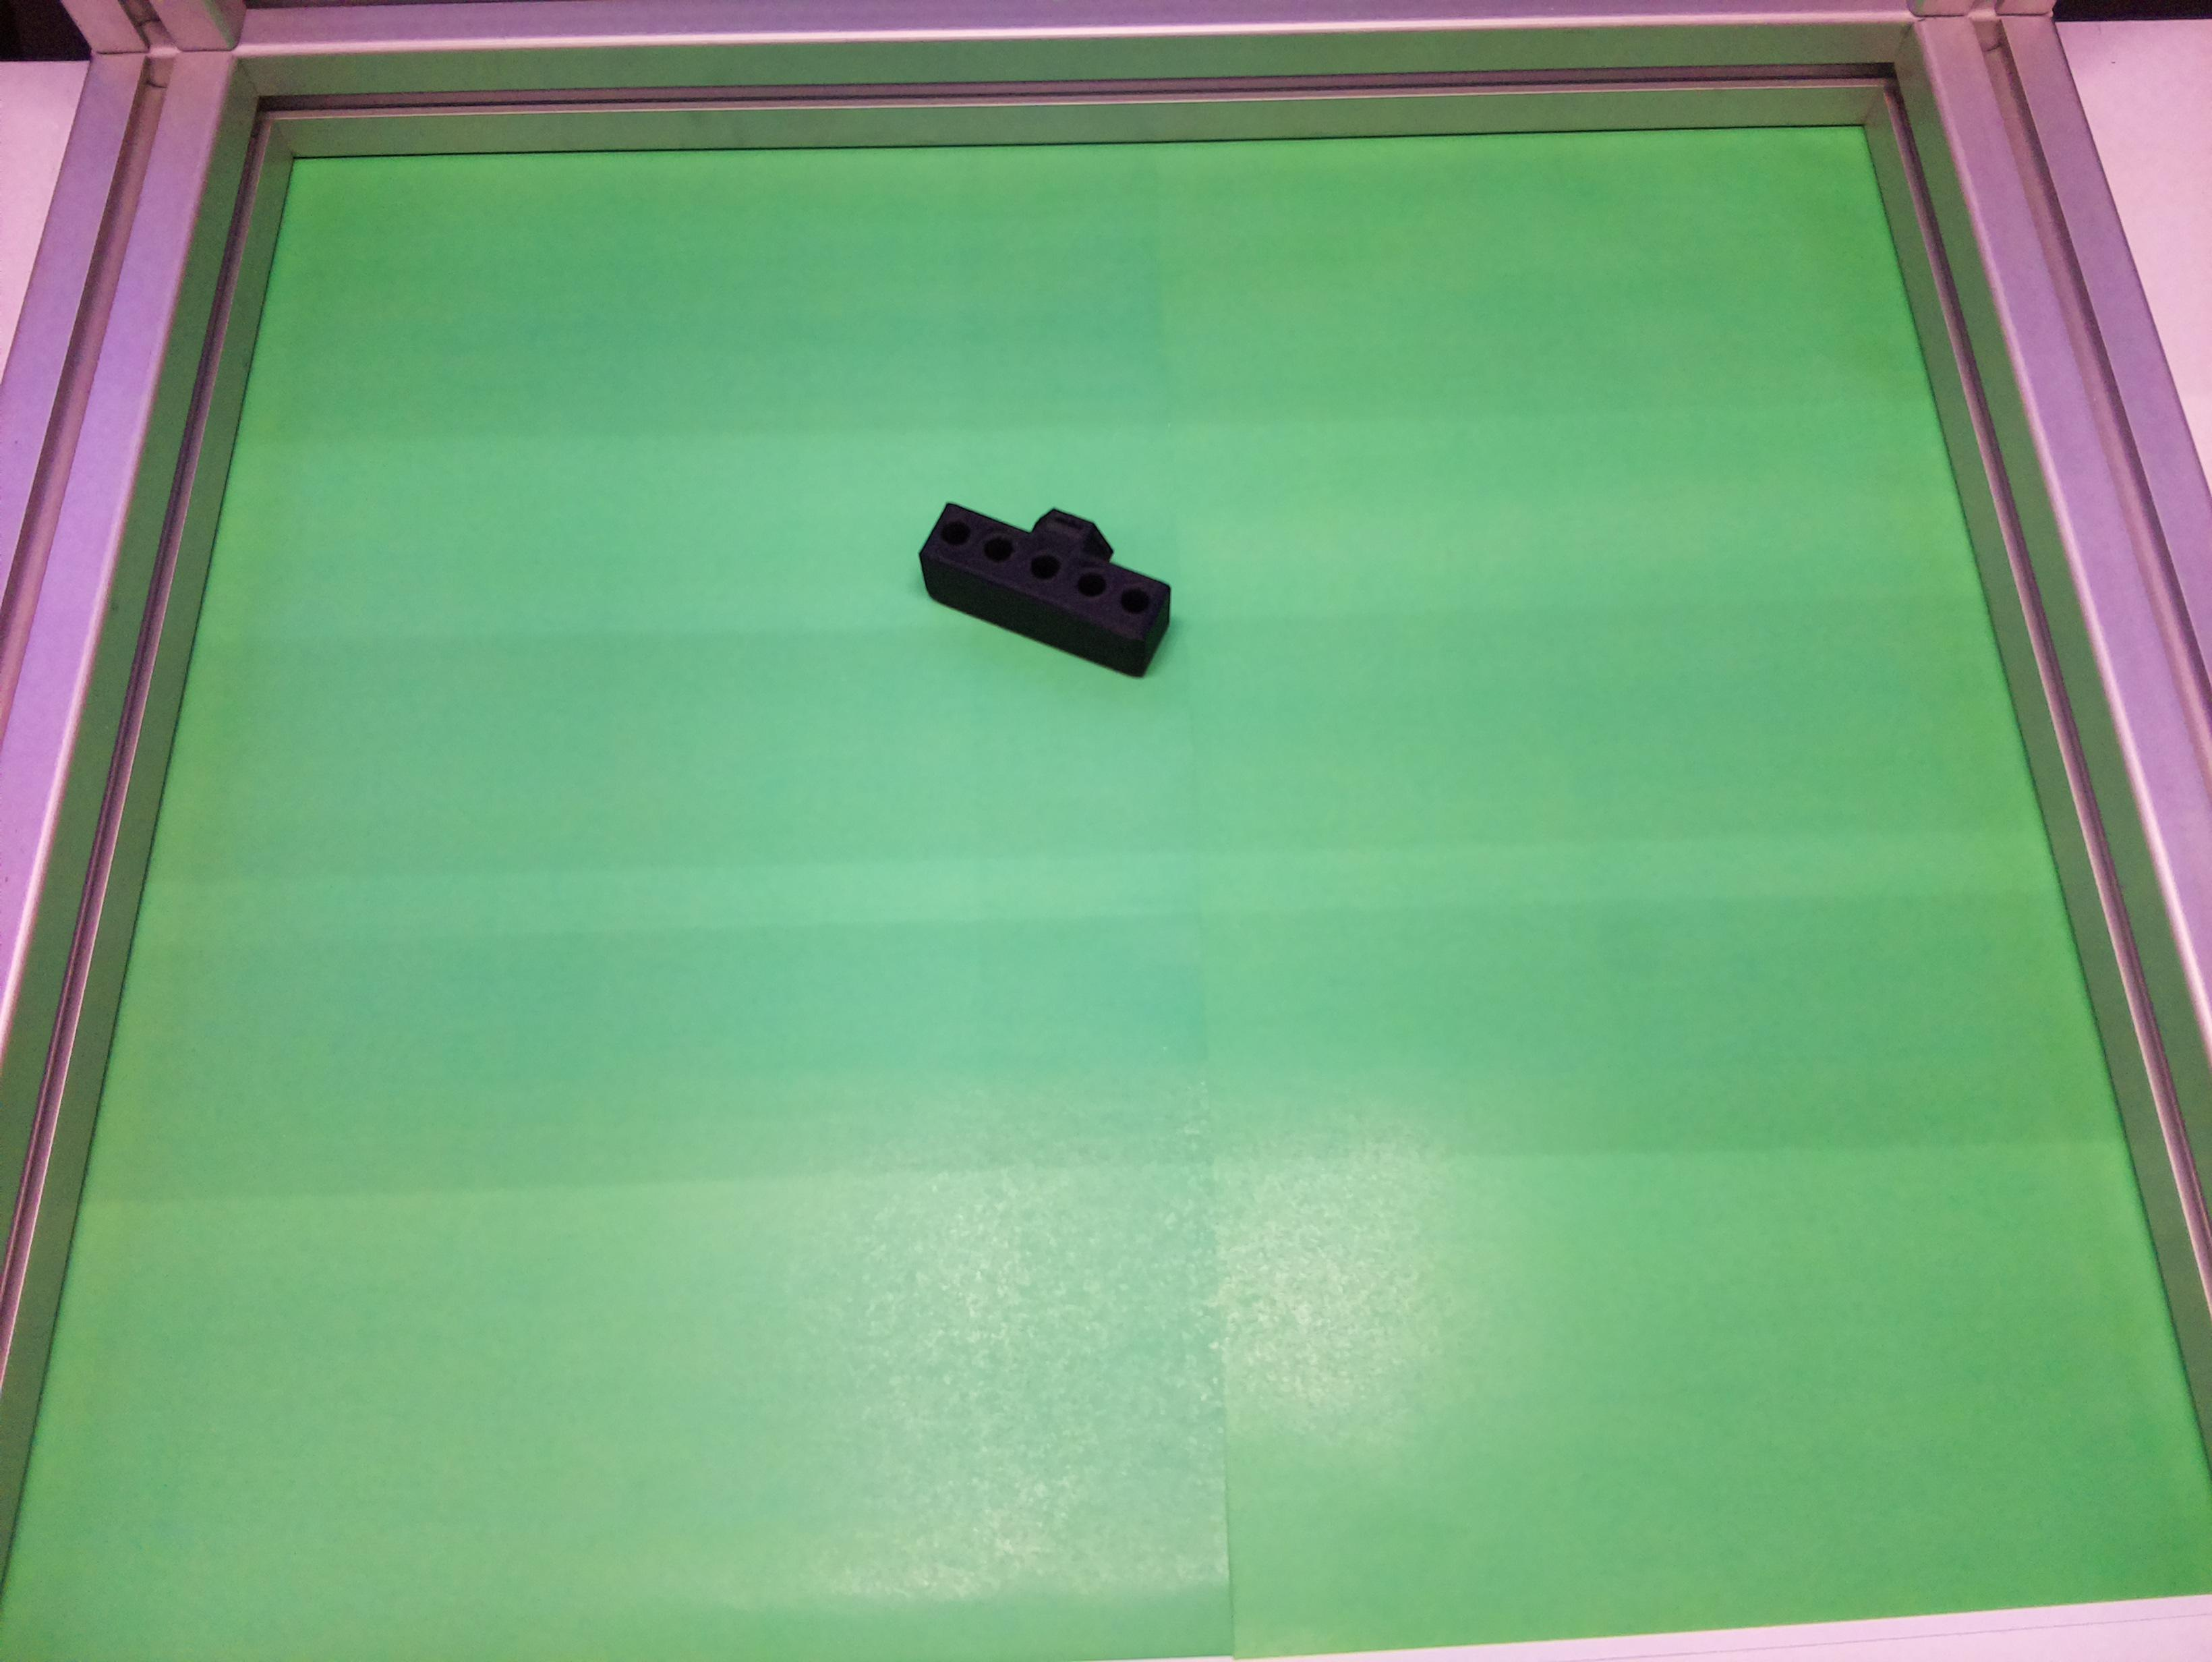bit_holder: (905, 468, 1192, 683)
